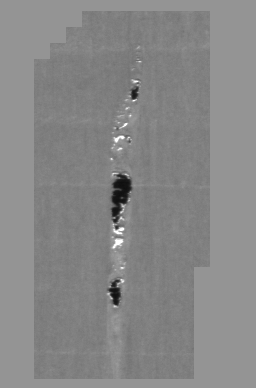oxl: (35, 10, 221, 378)
